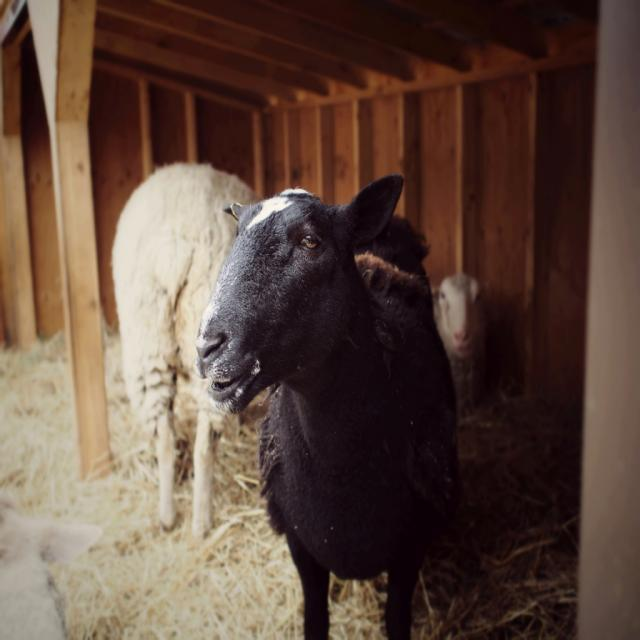Goat: (196, 171, 463, 637)
